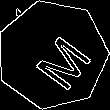M_NW: (18, 21, 87, 88)
